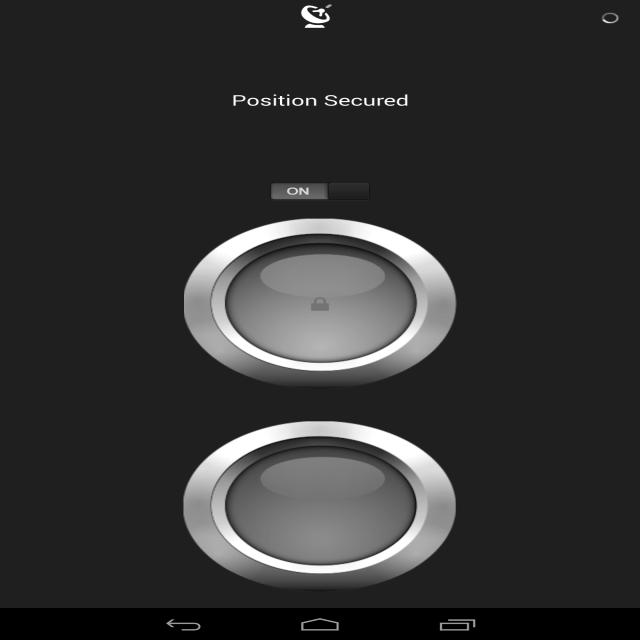ImageView: (192, 429, 455, 586), (180, 228, 454, 376), (286, 4, 351, 38)
Spinner: (592, 7, 629, 27)
Switch: (260, 179, 382, 203)
TextView: (218, 88, 416, 115)
